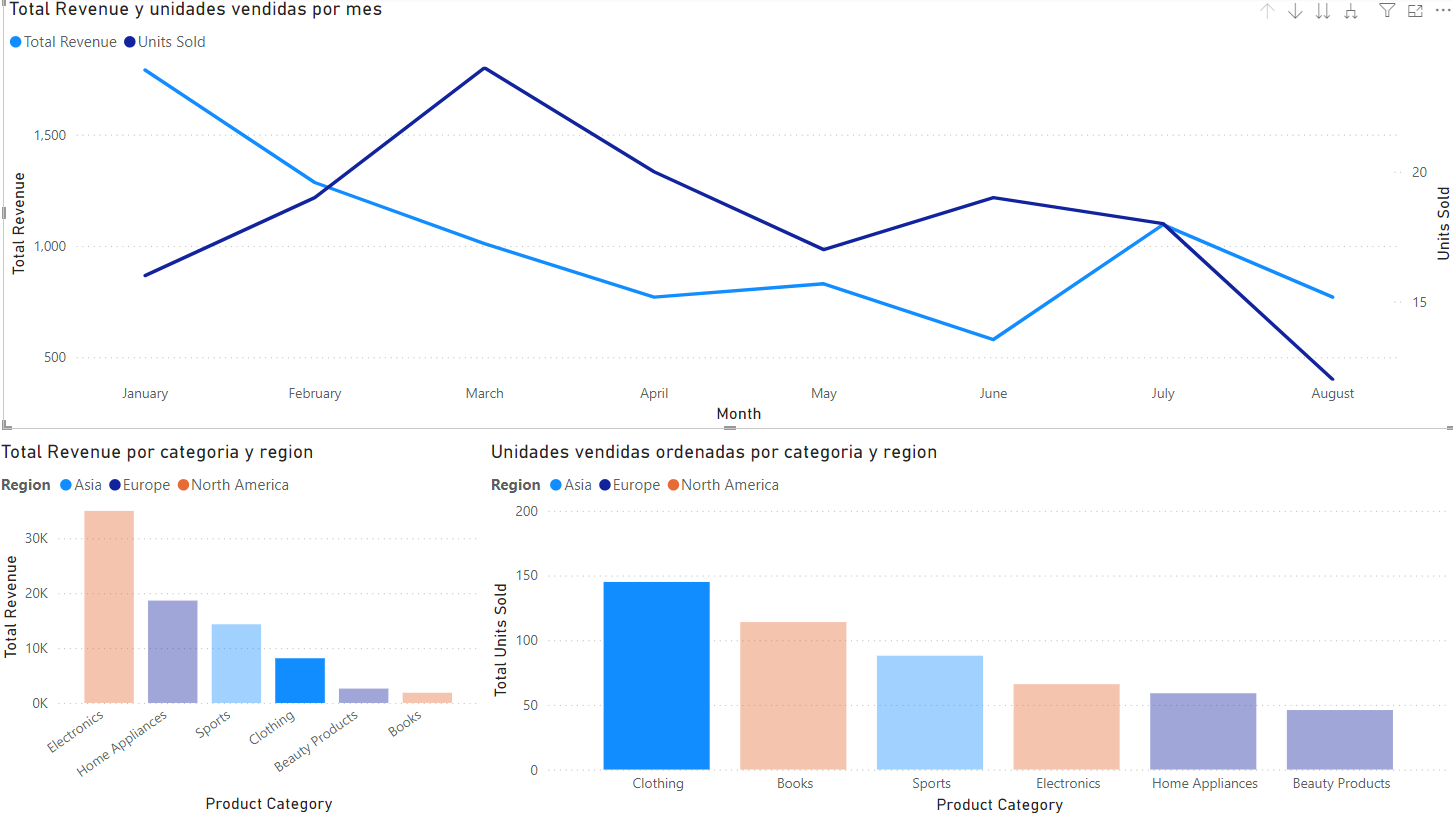

What the dashboard file says about the page in this screenshot:
{"tool":"powerbi","page":{"name":"Page 1","canvas":[1280,720],"ordinal":0},"visuals":[{"type":"lineChart","title":"Total Revenue y unidades vendidas por mes","fields":{"Y":["Sum(Online Sales Data.Total Revenue)"],"Category":["Online Sales Data.Date.Variation.Date Hierarchy.Month","Online Sales Data.Date.Variation.Date Hierarchy.Day"],"Y2":["Sum(Online Sales Data.Units Sold)"]},"box":[6.8,0,1273.2,378.4],"z":0},{"type":"columnChart","title":"Total Revenue por categoria y region","fields":{"Category":["Online Sales Data.Product Category"],"Y":["Sum(Online Sales Data.Total Revenue)"],"Series":["Online Sales Data.Region"]},"box":[0,388.1,428.9,331.7],"z":1000},{"type":"columnChart","title":"Unidades vendidas ordenadas por categoria y region","fields":{"Category":["Online Sales Data.Product Category"],"Y":["Sum(Online Sales Data.Units Sold)"],"Series":["Online Sales Data.Region"]},"box":[429.2,387.2,850.5,332],"z":2000}]}

Visuals, with their boxes in screenshot pixels (x1, y1, x2, y2), scaled from the page's 1280x720 canvas onto the 1453x817 screenshot:
"Total Revenue y unidades vendidas por mes" lineChart: (8, 0, 1452, 429)
"Total Revenue por categoria y region" columnChart: (0, 440, 487, 816)
"Unidades vendidas ordenadas por categoria y region" columnChart: (487, 439, 1452, 816)
